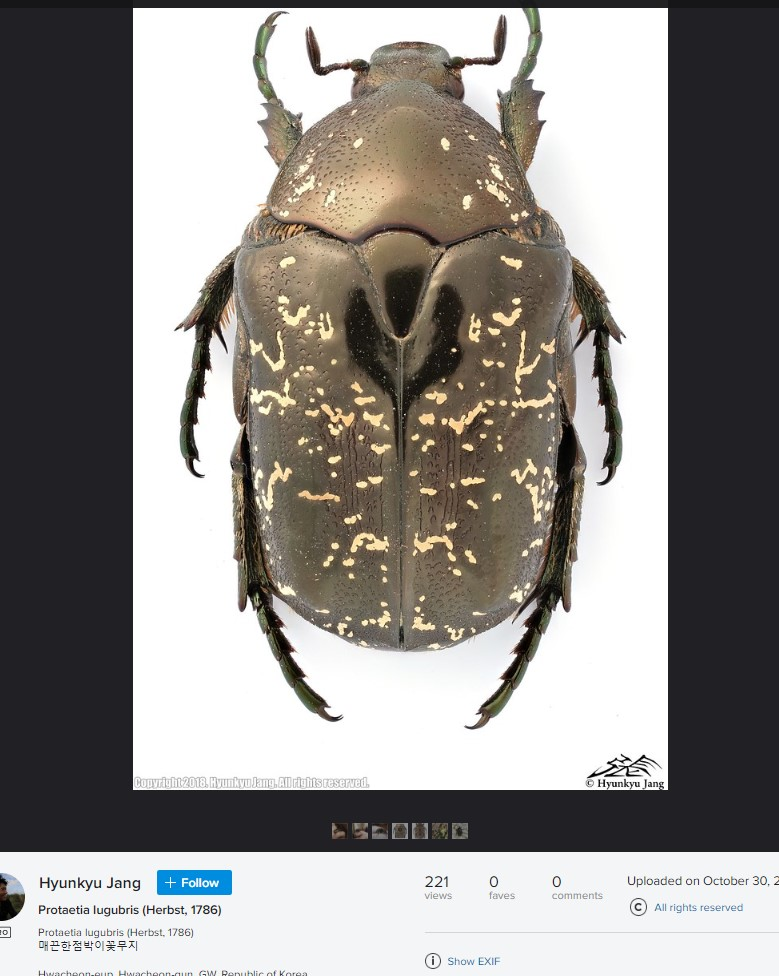Protaetia_lugubris: (160, 10, 630, 742)
